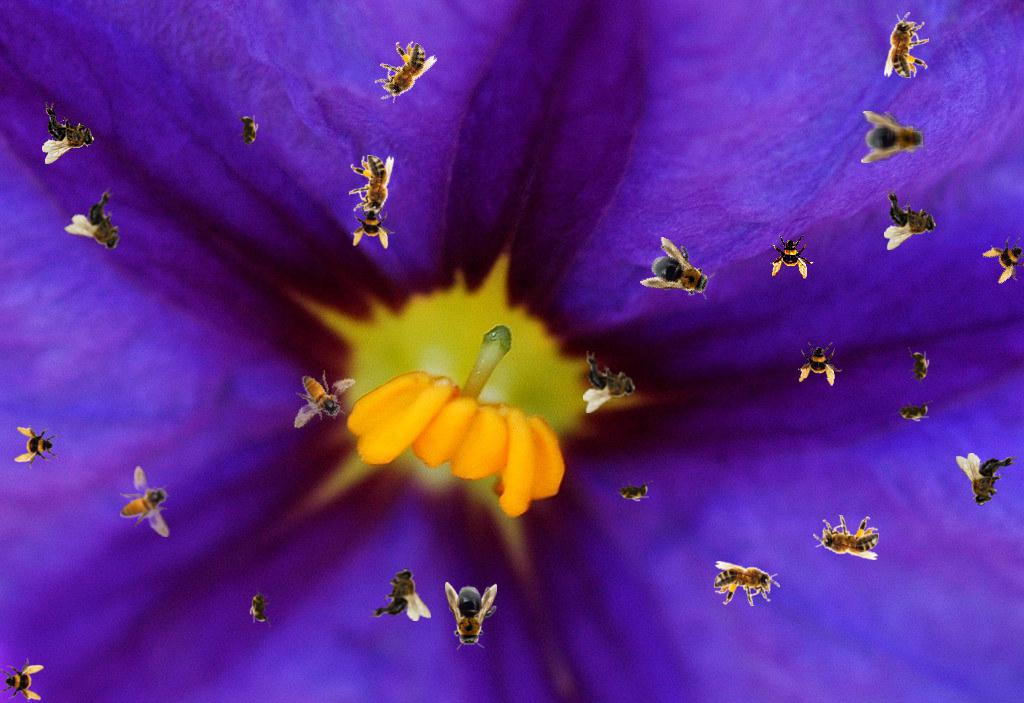Bee: (61, 184, 144, 266), (639, 235, 723, 311), (365, 32, 439, 113), (282, 363, 364, 430), (120, 466, 170, 537), (445, 582, 497, 650), (861, 111, 929, 163), (369, 568, 431, 621), (884, 188, 937, 250), (42, 102, 95, 164), (583, 351, 636, 413), (956, 453, 1018, 506), (884, 12, 929, 78), (714, 561, 780, 606), (349, 155, 394, 221), (813, 515, 879, 560), (978, 229, 1024, 291), (797, 341, 843, 387), (14, 425, 58, 469), (351, 205, 395, 249), (770, 235, 814, 279), (0, 658, 44, 702), (237, 111, 259, 151), (613, 480, 653, 502), (893, 400, 933, 422), (908, 347, 930, 387), (249, 587, 271, 627)
